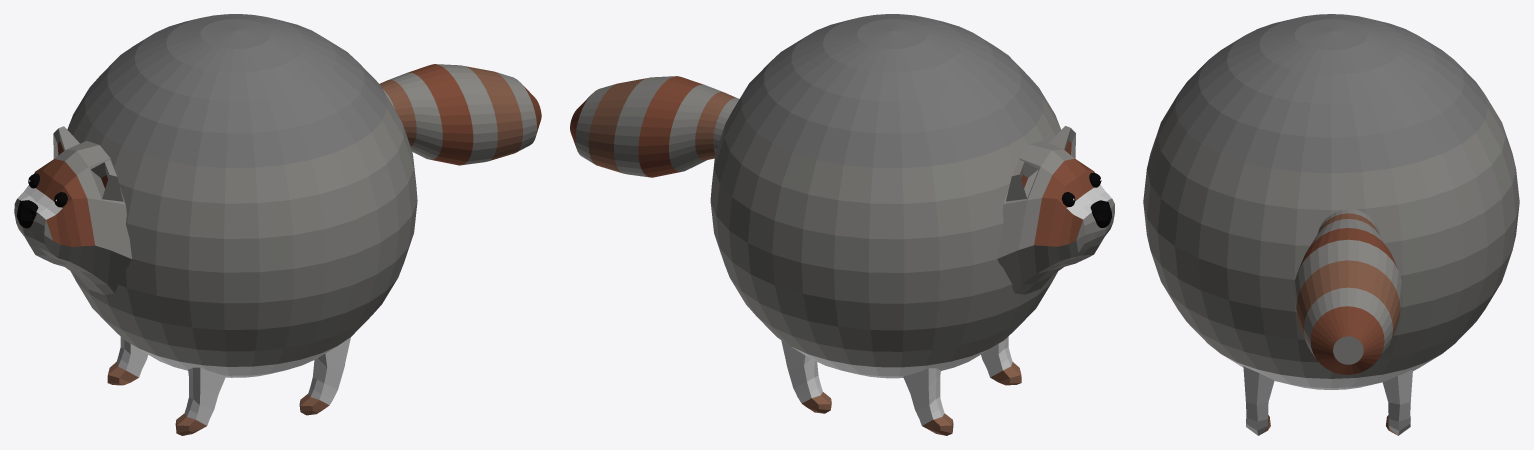
The model's file is raccoon.fbx.
The picture shows the model from 3 angles, left to right: view 1: azimuth 30°, elevation 25°; view 2: azimuth 150°, elevation 25°; view 3: azimuth 270°, elevation 25°; orthographic projection. The views are drawn at different scales.
Parts seen in each view (by area): view 1: Sphere, Cylinder, Plane, Plane.001, Plane.002; view 2: Sphere, Cylinder, Plane, Plane.001, Plane.002; view 3: Sphere, Cylinder, Plane.002.
Part boxes in pixels (x1,y1,x2,y2): Sphere: (67,14,417,377); Cylinder: (379,64,541,165); Plane: (14,126,131,294); Plane.001: (107,337,225,435); Plane.002: (299,337,350,415); Sphere: (710,14,1060,378); Cylinder: (570,76,739,177); Plane: (997,126,1114,294); Plane.001: (903,336,1021,435); Plane.002: (781,340,831,413); Sphere: (1143,14,1519,389); Cylinder: (1294,209,1402,374); Plane.002: (1243,366,1412,435).
Bounding box in the file's own units: 213 × 143 × 128.
